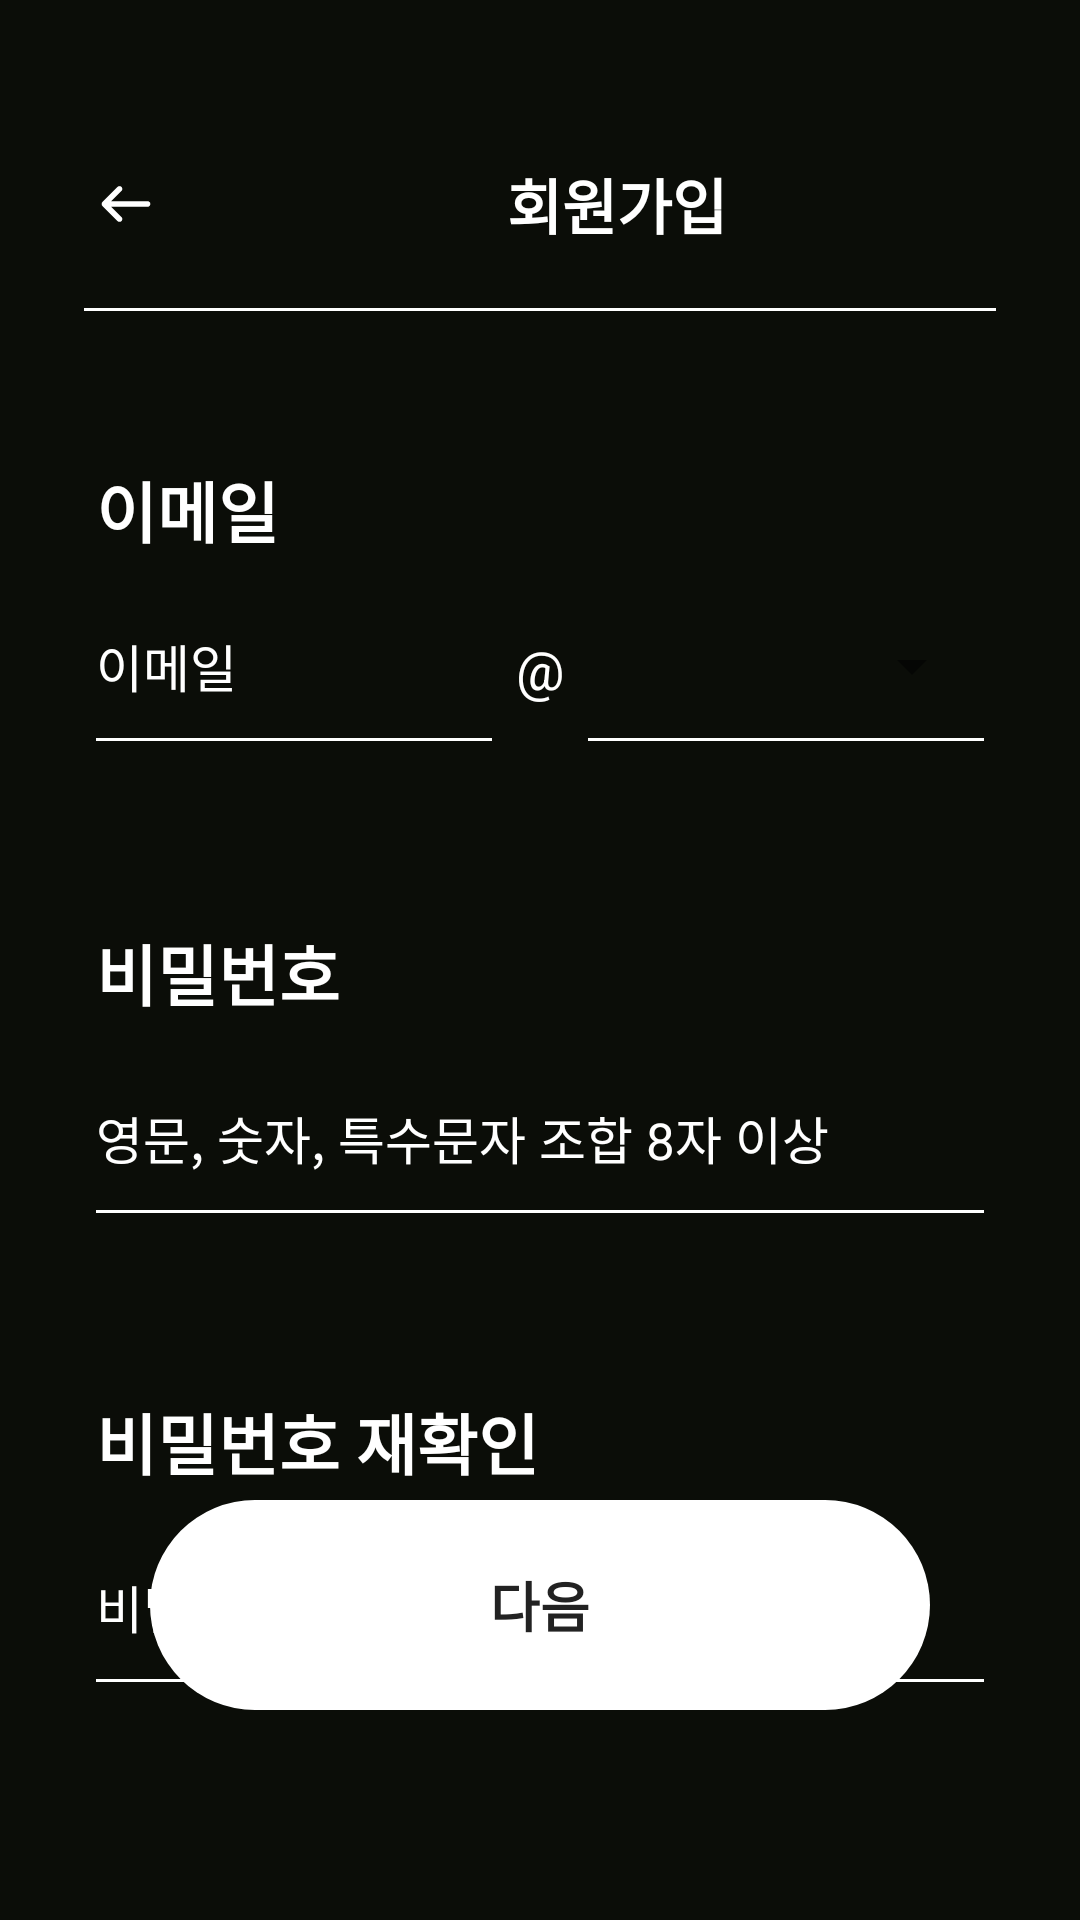

Icon click points for this 1080*1920 phone screenshot, format (x=x, y=y):
backarrow: (x=126, y=204)
